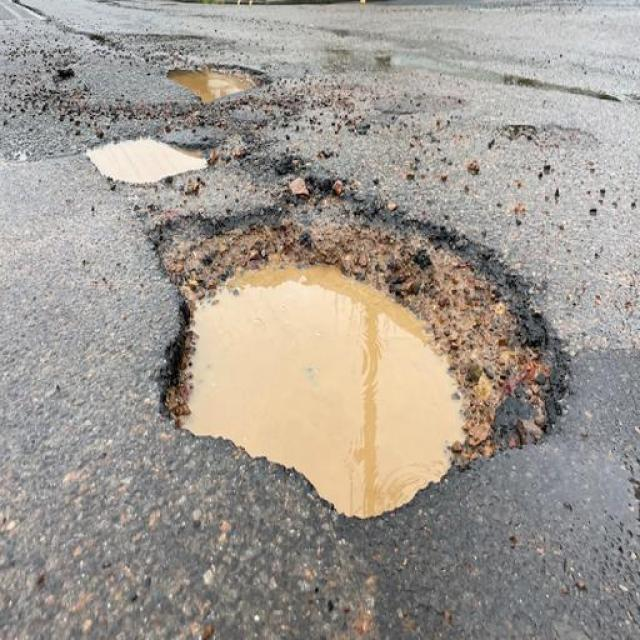puddle: (198, 260, 453, 504)
